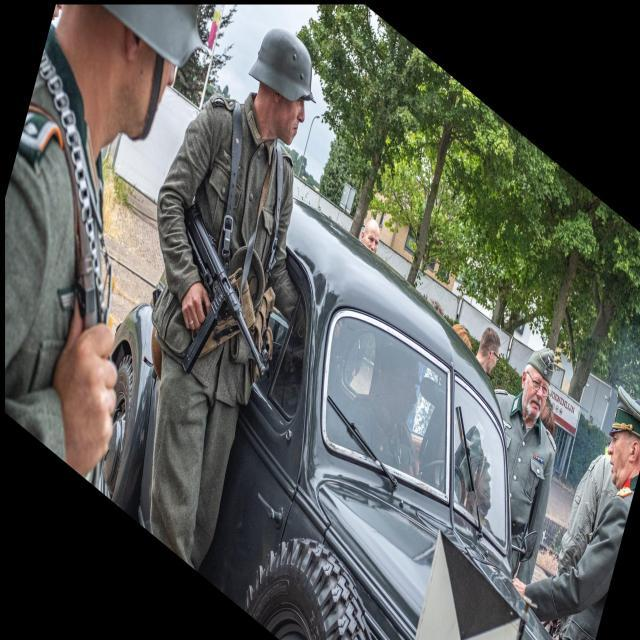weapon: (181, 202, 269, 378)
